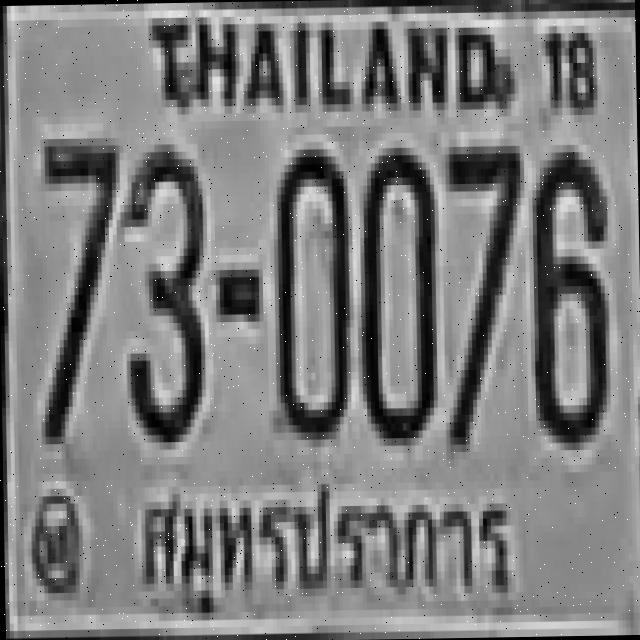0: (354, 139, 434, 438), (272, 141, 348, 432)
3: (122, 136, 202, 442)
6: (527, 144, 607, 442)
7: (36, 130, 120, 436), (442, 138, 522, 436)
SamutPrakan: (127, 466, 518, 613)
